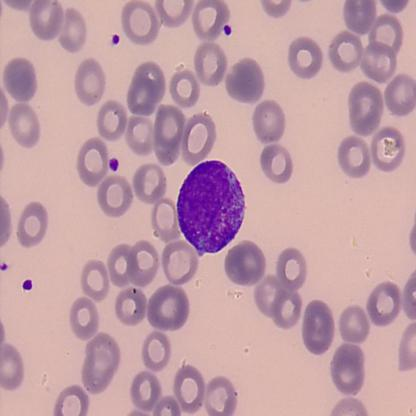Myelocyte: (176, 158, 245, 258)
